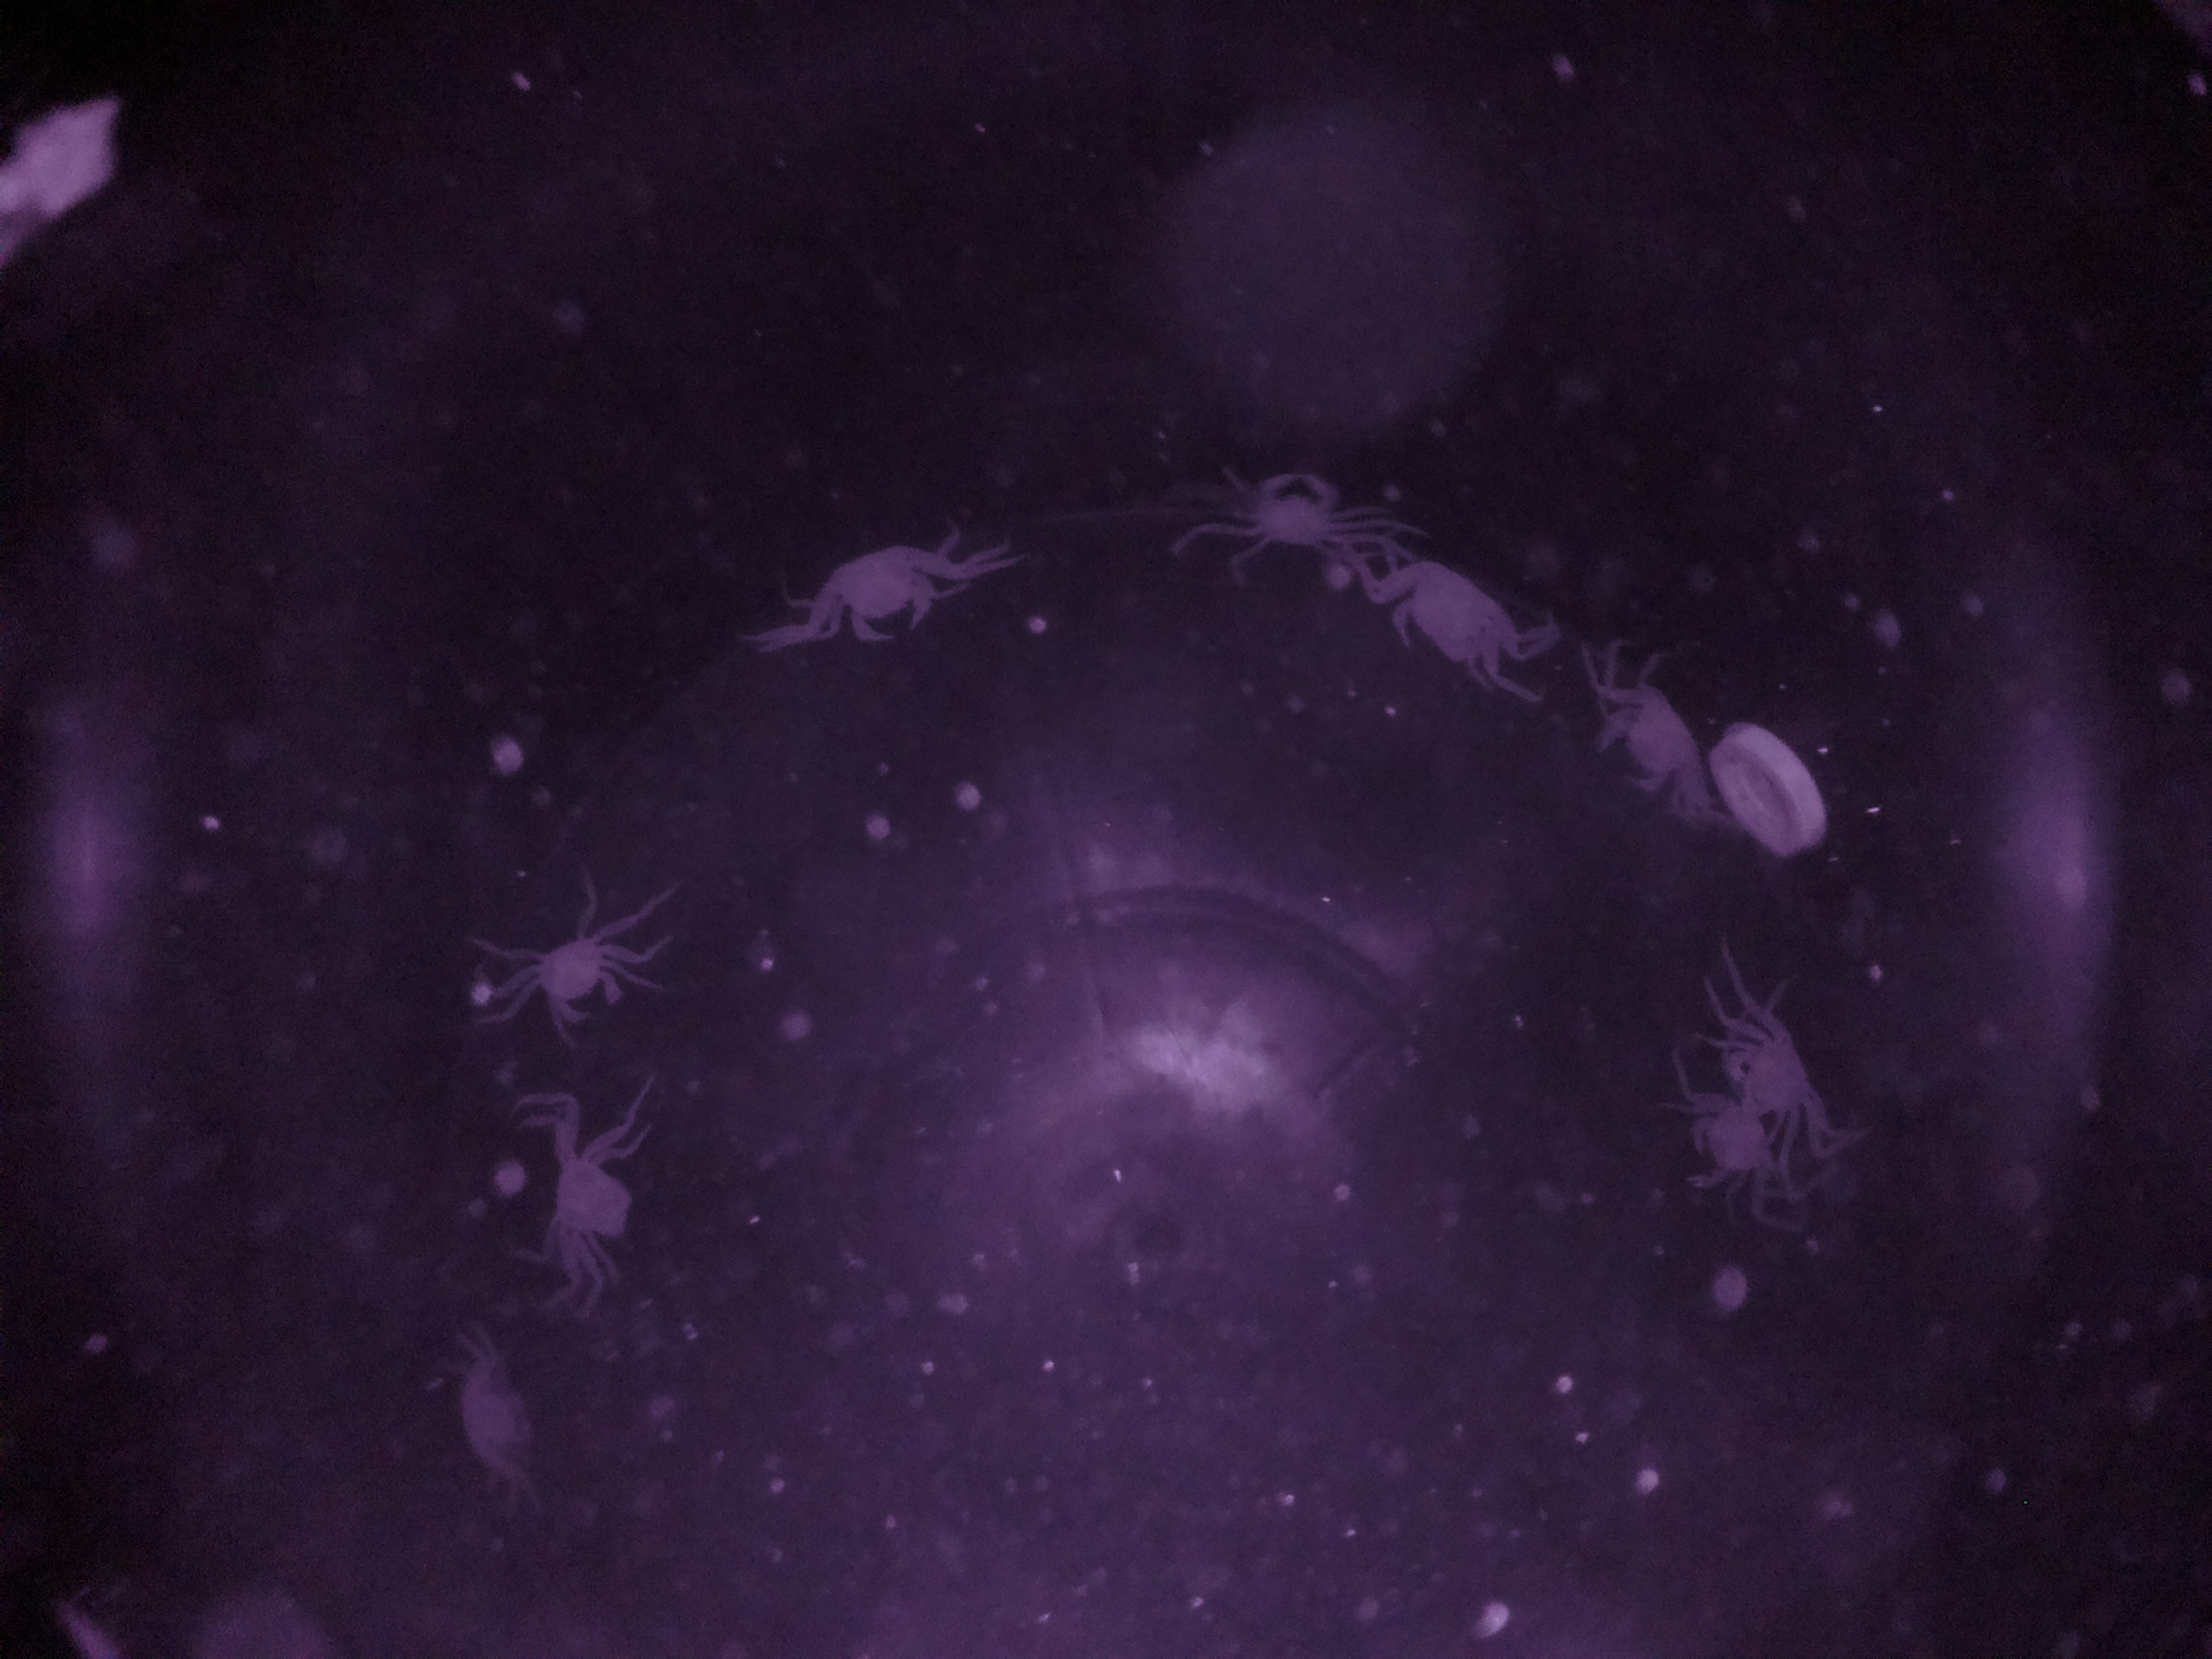Crab: (1346, 530, 1559, 702), (786, 509, 996, 666), (1566, 641, 1735, 836), (475, 885, 651, 1060), (510, 1098, 651, 1293), (1202, 432, 1357, 580)
